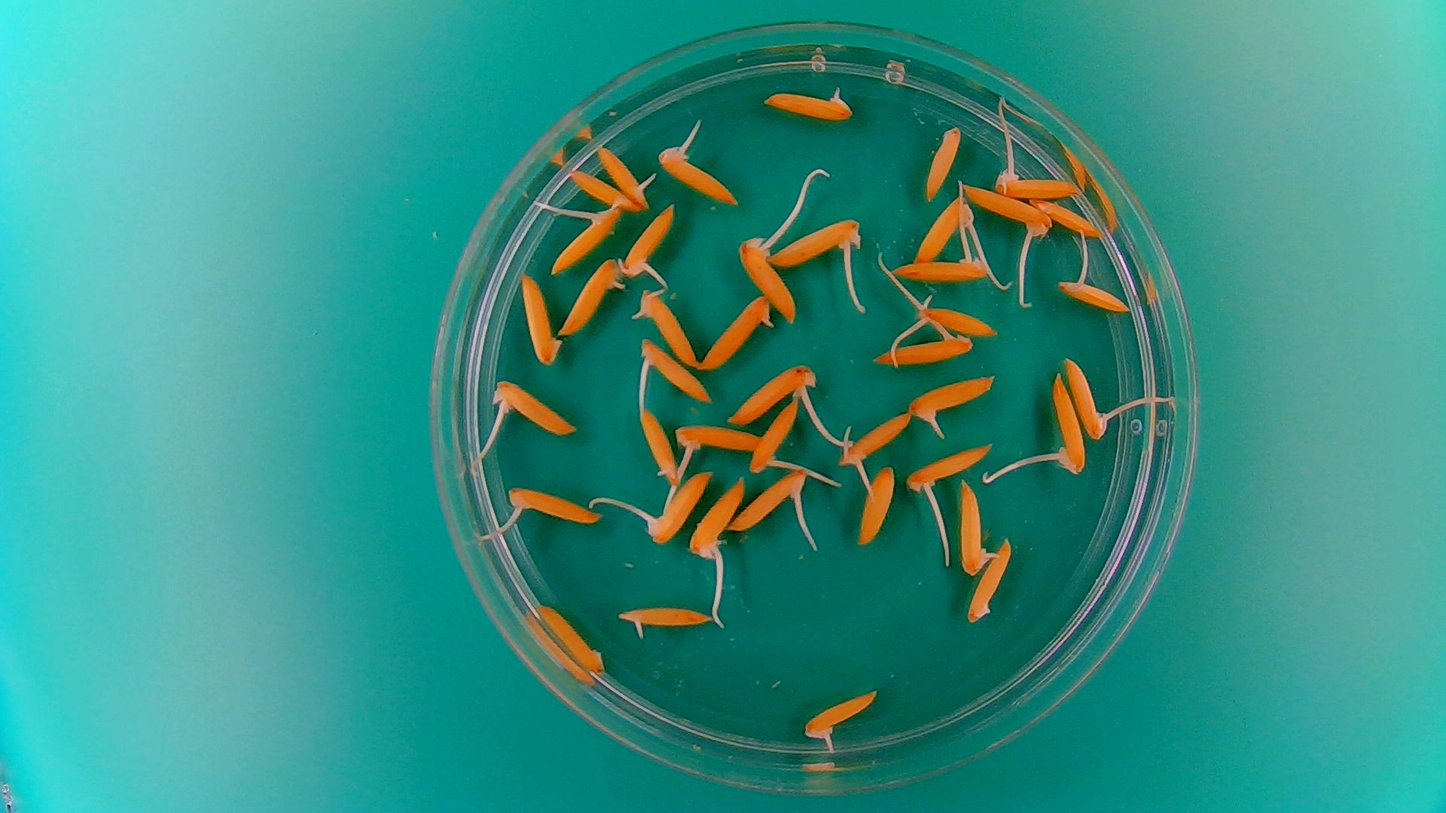no: (533, 601, 606, 675), (519, 269, 565, 368), (967, 534, 1014, 626), (565, 166, 645, 215), (1027, 197, 1108, 241), (857, 463, 898, 547), (922, 122, 962, 201)
yes: (736, 227, 800, 324), (725, 360, 816, 428), (698, 291, 774, 371), (766, 211, 865, 272), (729, 467, 816, 534), (634, 336, 715, 405), (560, 256, 627, 337), (801, 684, 881, 751), (636, 285, 700, 368), (491, 376, 578, 437), (548, 205, 622, 273), (646, 467, 713, 542), (656, 148, 741, 207), (835, 409, 914, 472), (959, 181, 1045, 238), (671, 420, 770, 467), (687, 473, 743, 556), (912, 193, 978, 263), (874, 326, 977, 370), (620, 202, 677, 279), (507, 482, 602, 527), (953, 478, 995, 577), (909, 376, 997, 423), (749, 394, 801, 472), (596, 141, 654, 208), (906, 446, 990, 492), (1061, 358, 1107, 441), (636, 403, 679, 489), (1051, 374, 1081, 475), (993, 168, 1083, 201), (1054, 276, 1130, 315), (895, 255, 990, 285), (767, 93, 855, 124), (615, 606, 717, 632), (917, 305, 993, 339)
